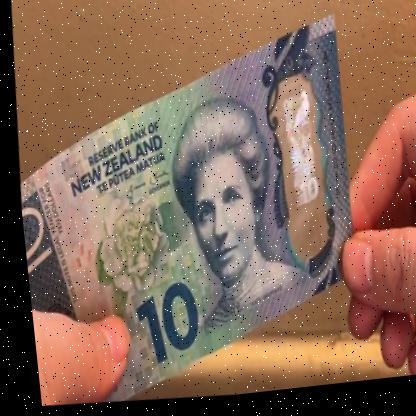10B: (269, 89, 323, 218)
